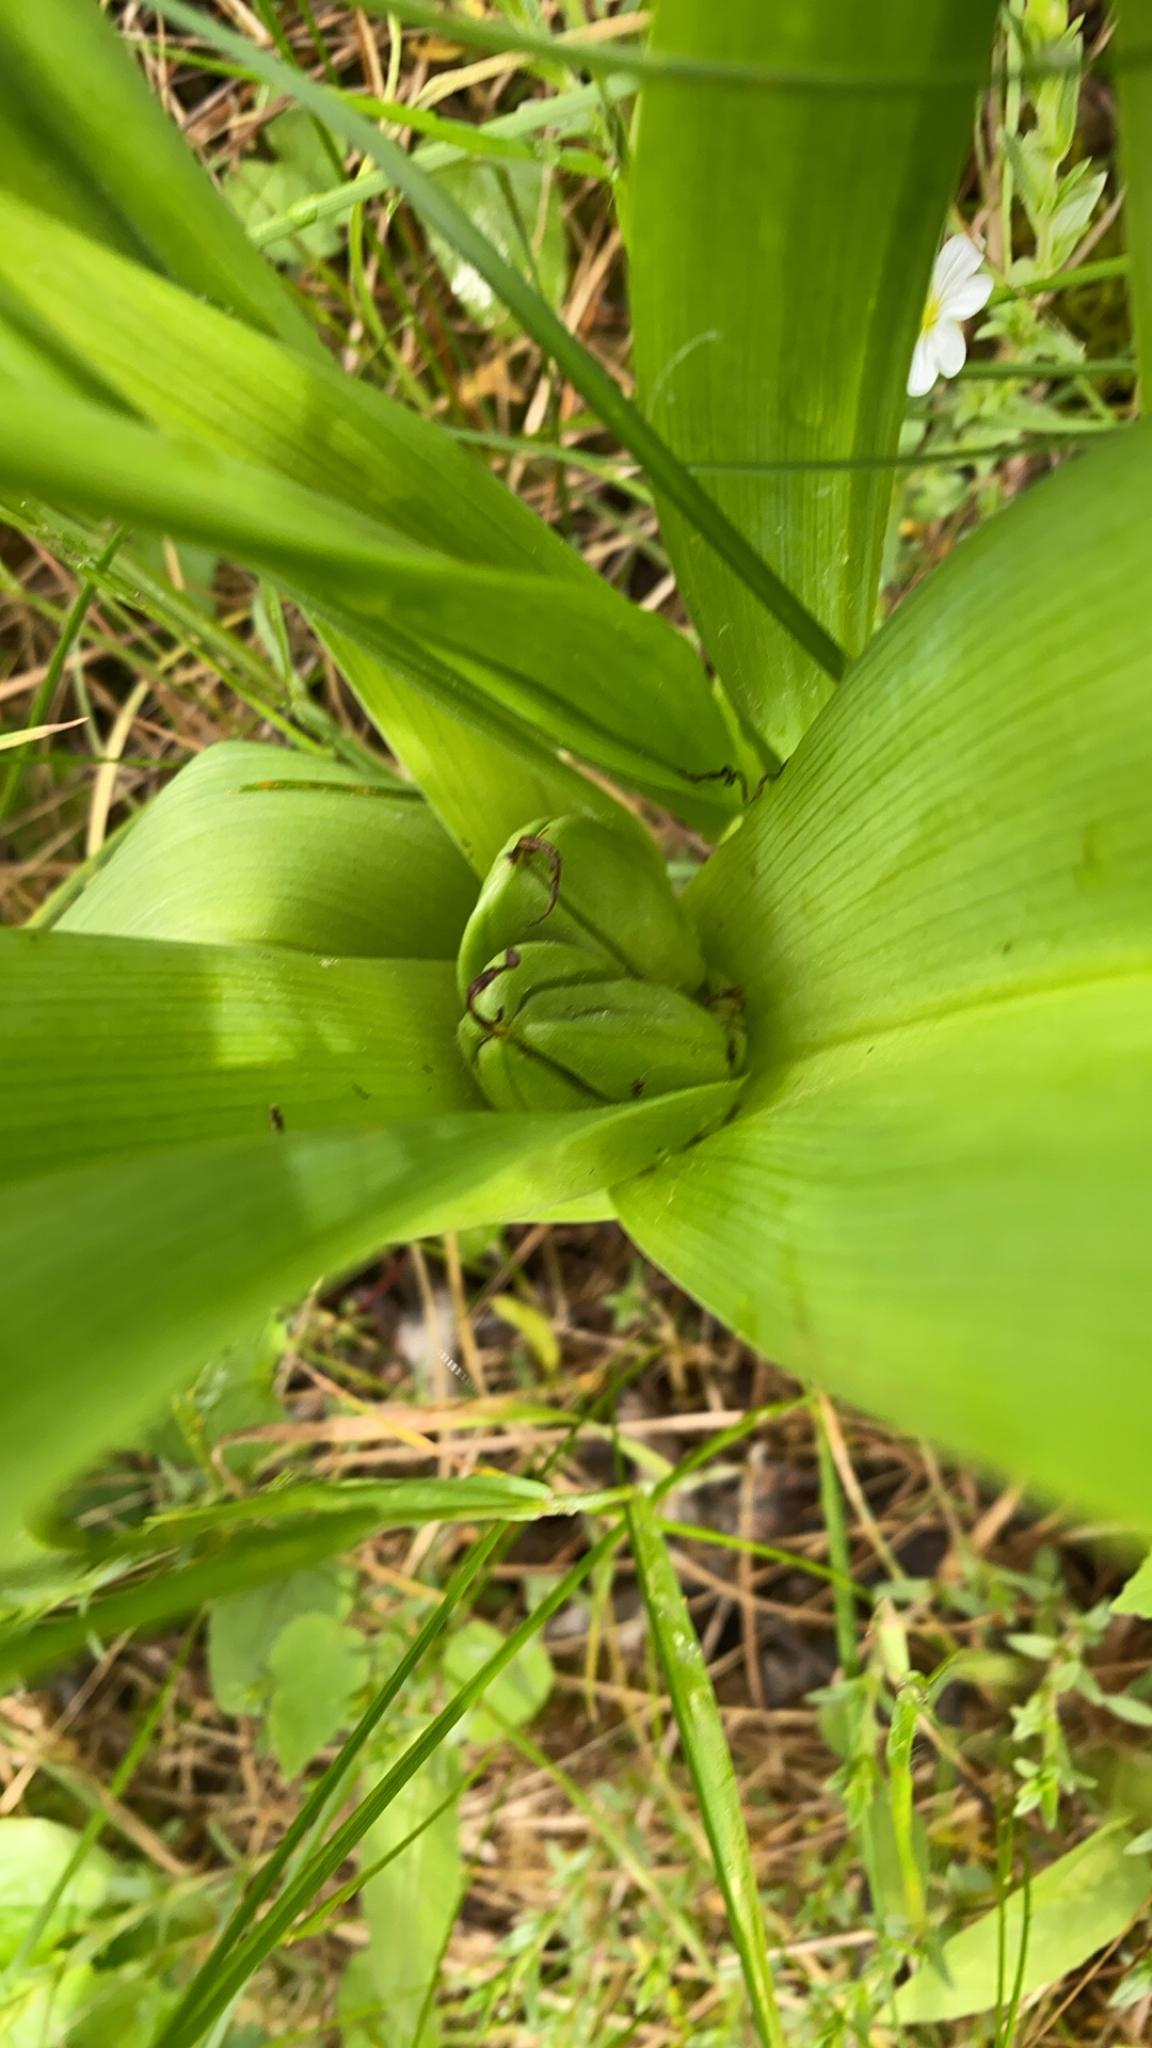Colchicum autumnale L: (39, 68, 1127, 1578)
